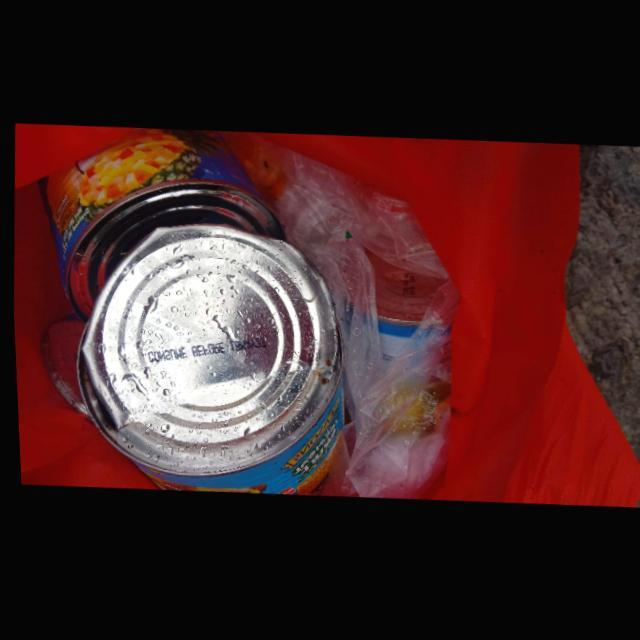metal: (72, 226, 341, 495), (38, 128, 283, 322)
plastic: (218, 131, 450, 500)
